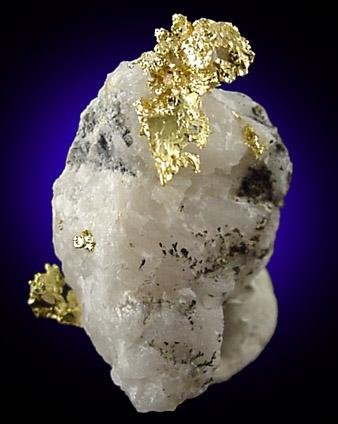gold: (135, 14, 255, 186), (29, 266, 77, 312), (243, 124, 268, 158)
